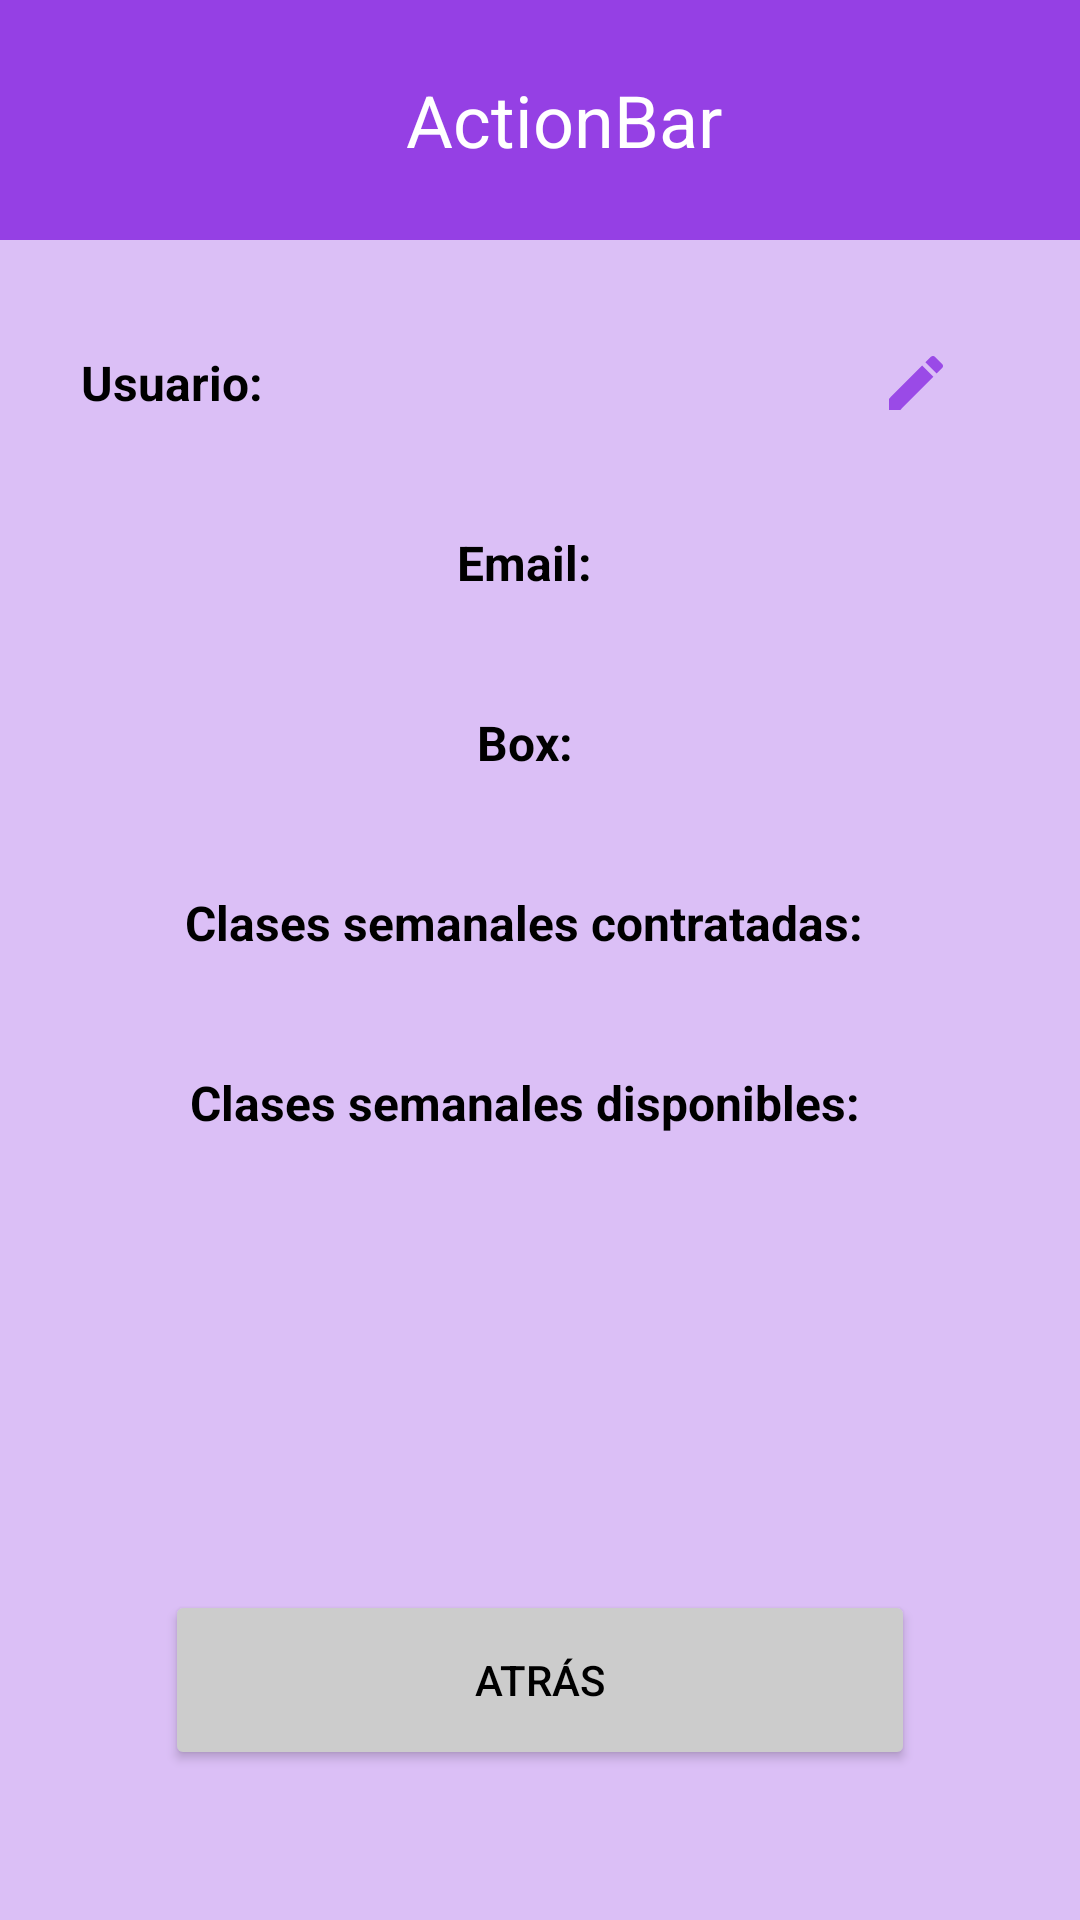

Where icons sit on this 1080*1920 app screen, as (x1, y1, x2, y2):
edit: (889, 356, 943, 410)
